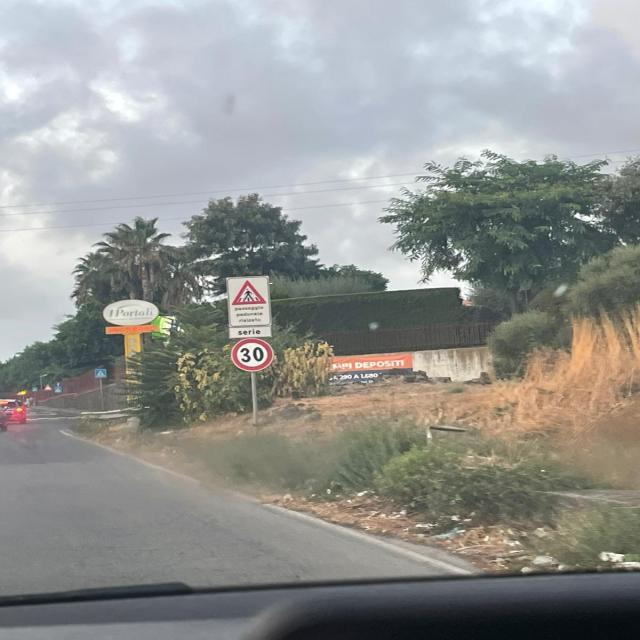forb_speed_over_30: (231, 337, 276, 372)
warn_crosswalk: (232, 280, 267, 305)
